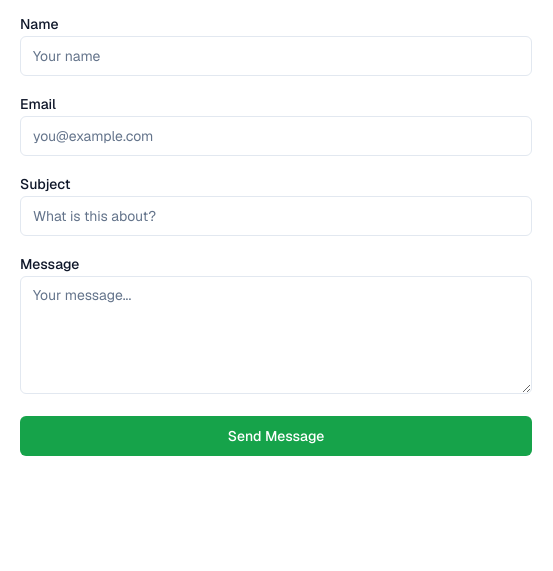
Test: ContactForm › shows validation errors for empty required fields
The width and height of the screenshot is (553, 571).
Click the button "Send Message". click: click(276, 436)
box: top-left (20, 416), bottom-right (532, 456)
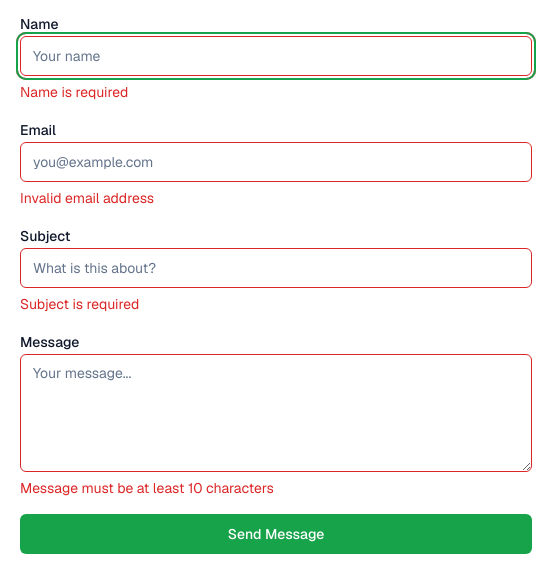
Now the text "Name is required" is shown, box top-left (20, 83), bottom-right (128, 101)
